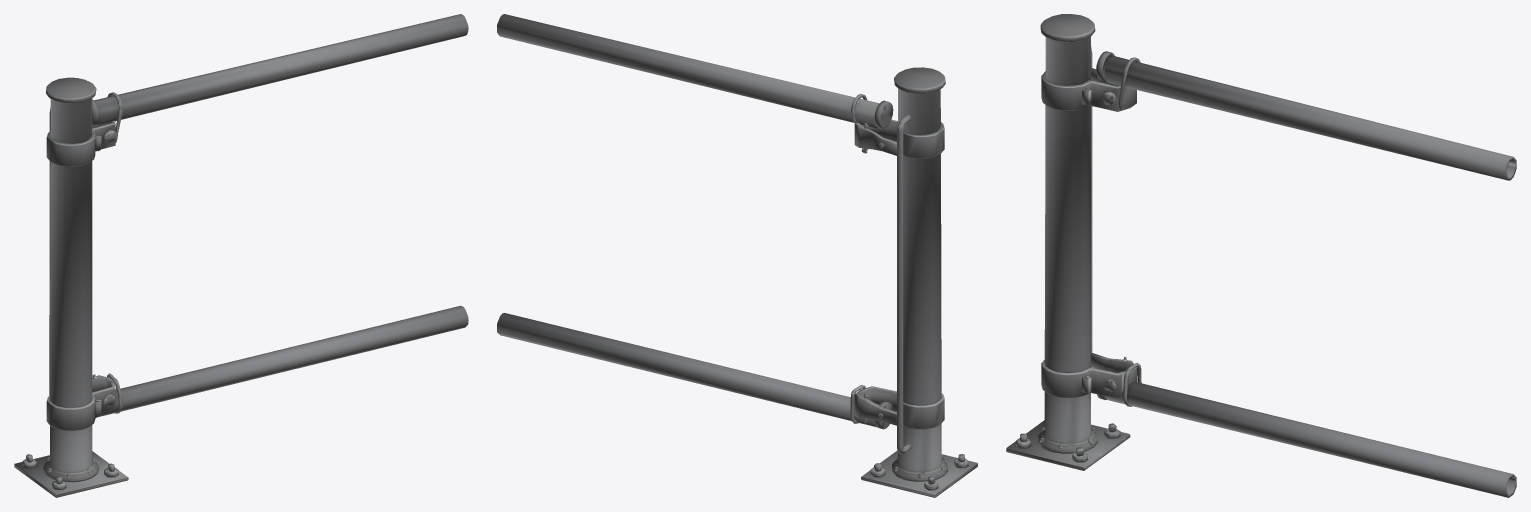
The model's file is selected.glb.
3 views of the same model, side by side, from view 1: azimuth 30°, elevation 25°; view 2: azimuth 150°, elevation 25°; view 3: azimuth 330°, elevation 25° (orthographic). The views are drawn at different scales.
Visible parts, largest first — view 1: tripo_node_8156dc43-53ea-4e00-8d2d-5ec7121d170e; view 2: tripo_node_8156dc43-53ea-4e00-8d2d-5ec7121d170e; view 3: tripo_node_8156dc43-53ea-4e00-8d2d-5ec7121d170e.
Part boxes in pixels (x1=…): tripo_node_8156dc43-53ea-4e00-8d2d-5ec7121d170e: x1=14, y1=14, x2=468, y2=497; tripo_node_8156dc43-53ea-4e00-8d2d-5ec7121d170e: x1=497, y1=14, x2=977, y2=497; tripo_node_8156dc43-53ea-4e00-8d2d-5ec7121d170e: x1=1006, y1=14, x2=1516, y2=497.
Size of the model in its own units: 0.998 by 0.8457 by 0.166.
Materials: 1 (1 with a texture image).
